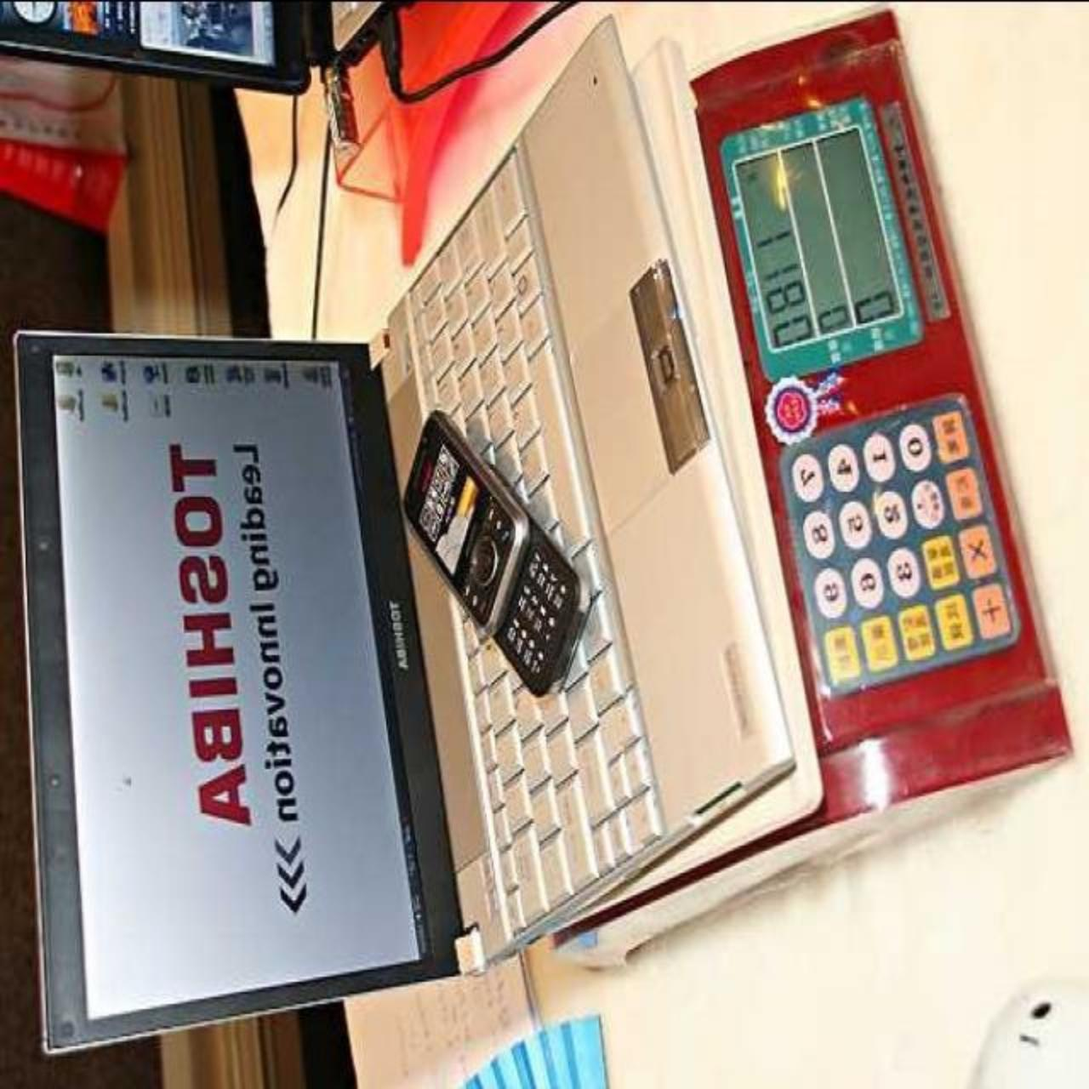laptop: (17, 159, 704, 1039), (0, 1, 351, 94)
